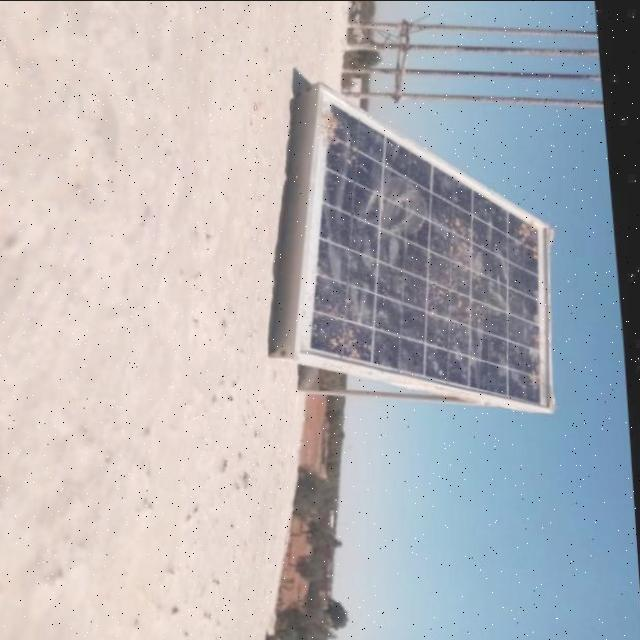Anomaly Solar Panel: (311, 99, 549, 408)
Surface Contaminant: (311, 105, 547, 406)
